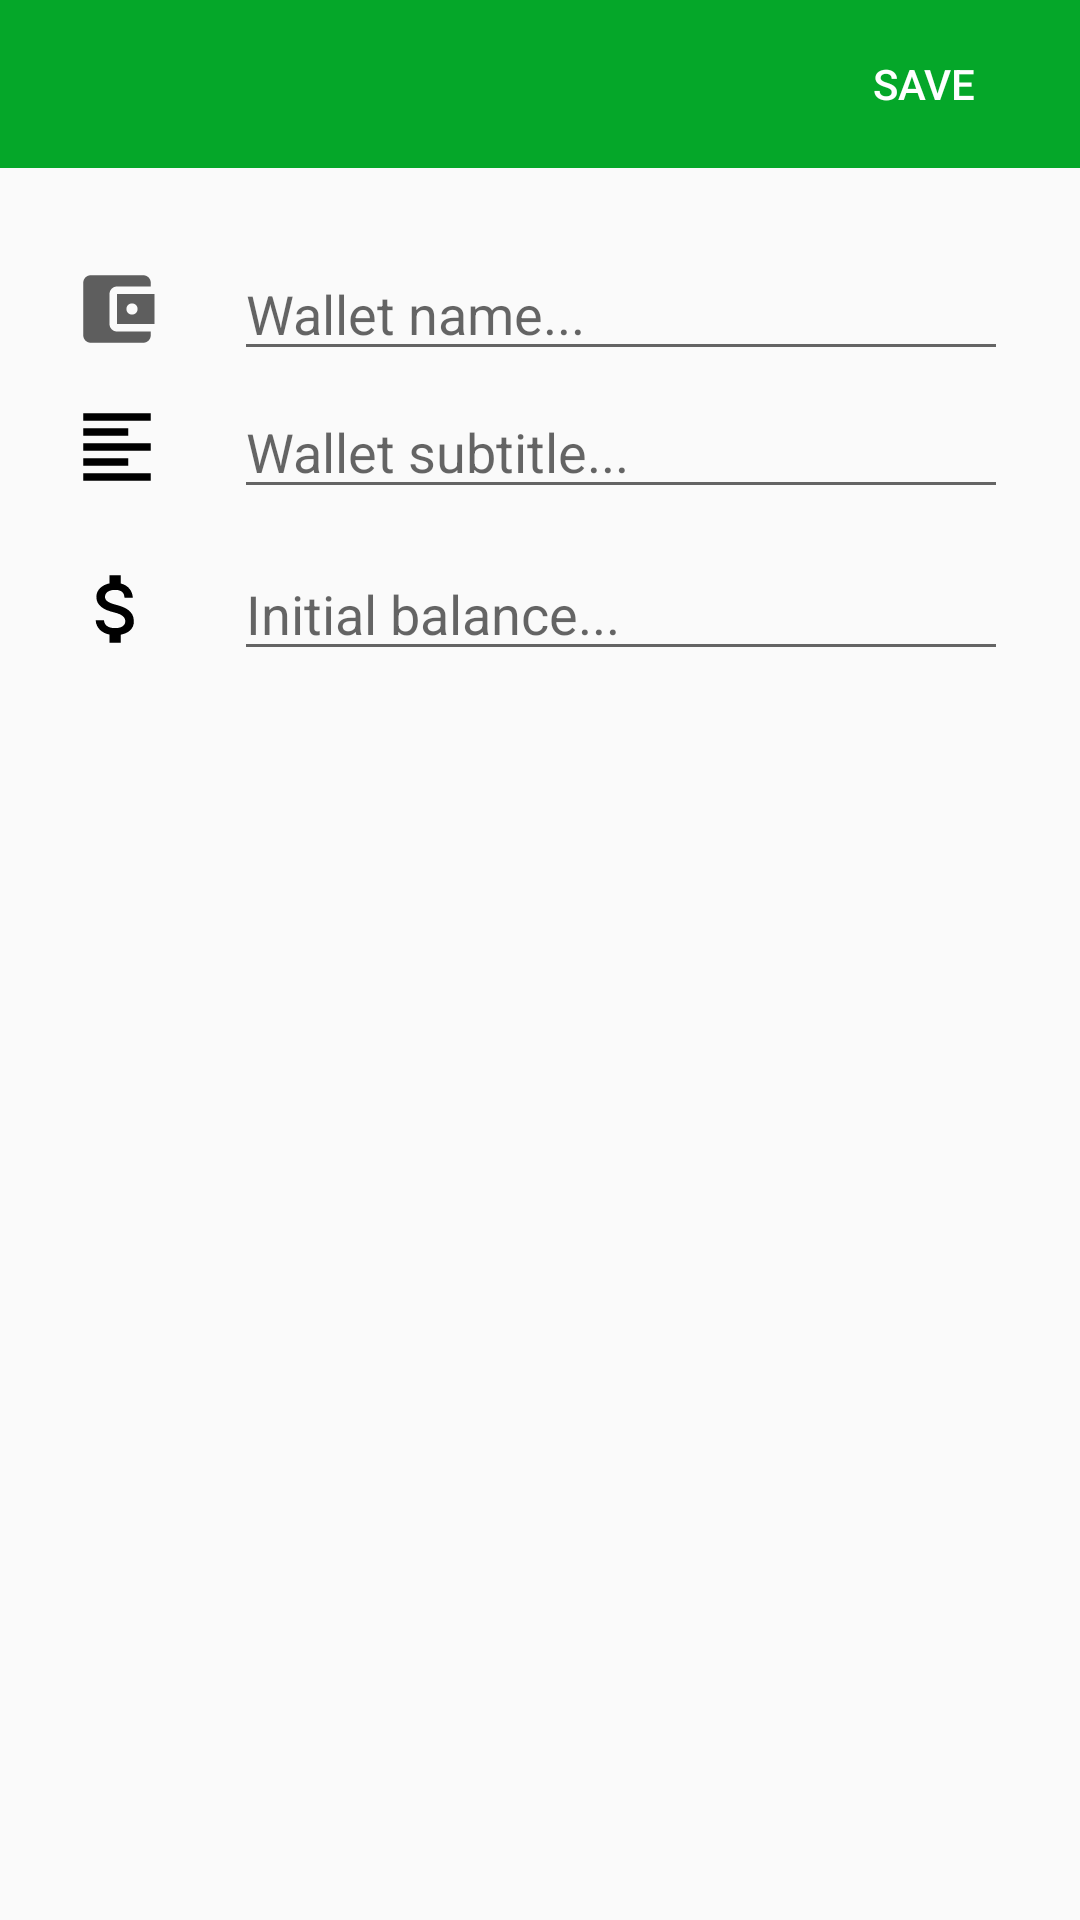

Icons on this 1080 x 1920 Android screen, each with the point to tap as [x,y]:
account balance wallet: [119,309]
money: [114,609]
